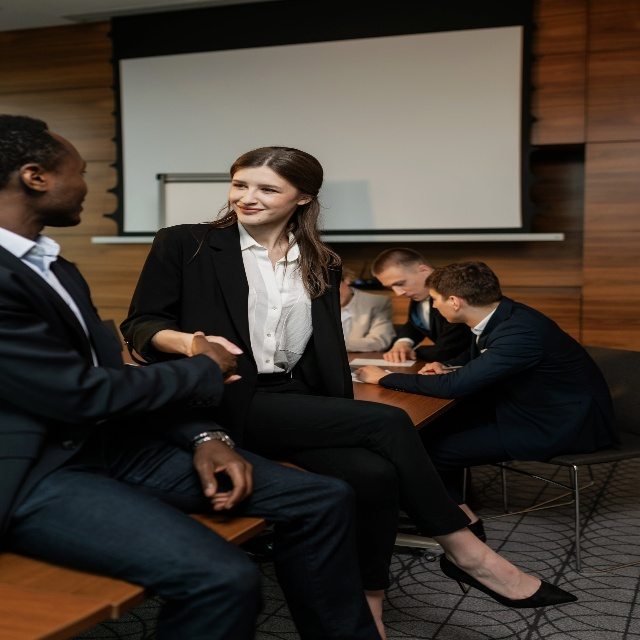Sin_guantes: (193, 443, 252, 511), (207, 333, 244, 387), (192, 328, 234, 374), (354, 362, 386, 388), (382, 340, 415, 364), (417, 357, 450, 376)
